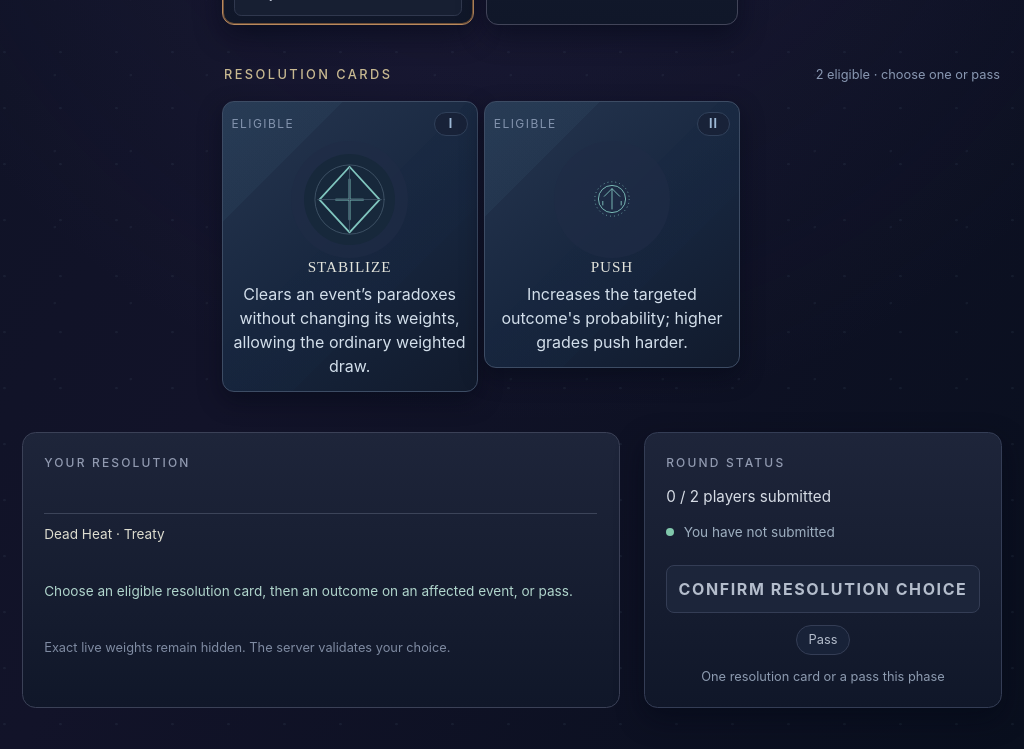
Test: waits for game state before showing a choice accepted without its projection
(page scrolled)
Click the button "Pass" at [823, 640], box [796,624,850,655]
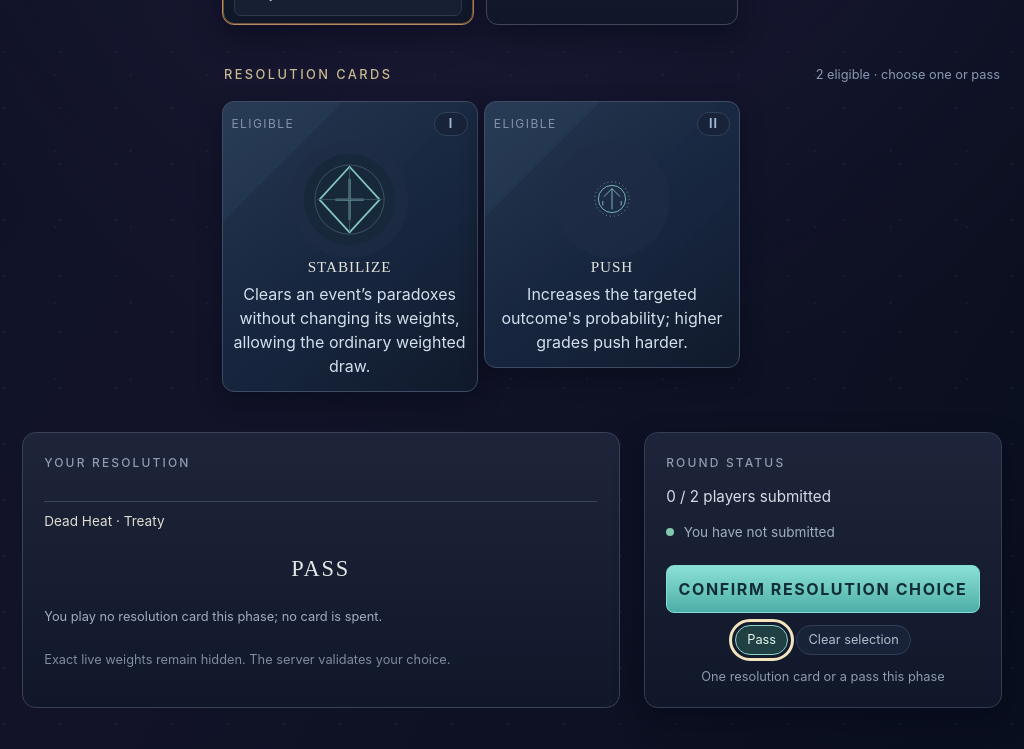
Click the button "Confirm resolution choice" at [823, 589], box [666,565,980,613]
(page scrolled)
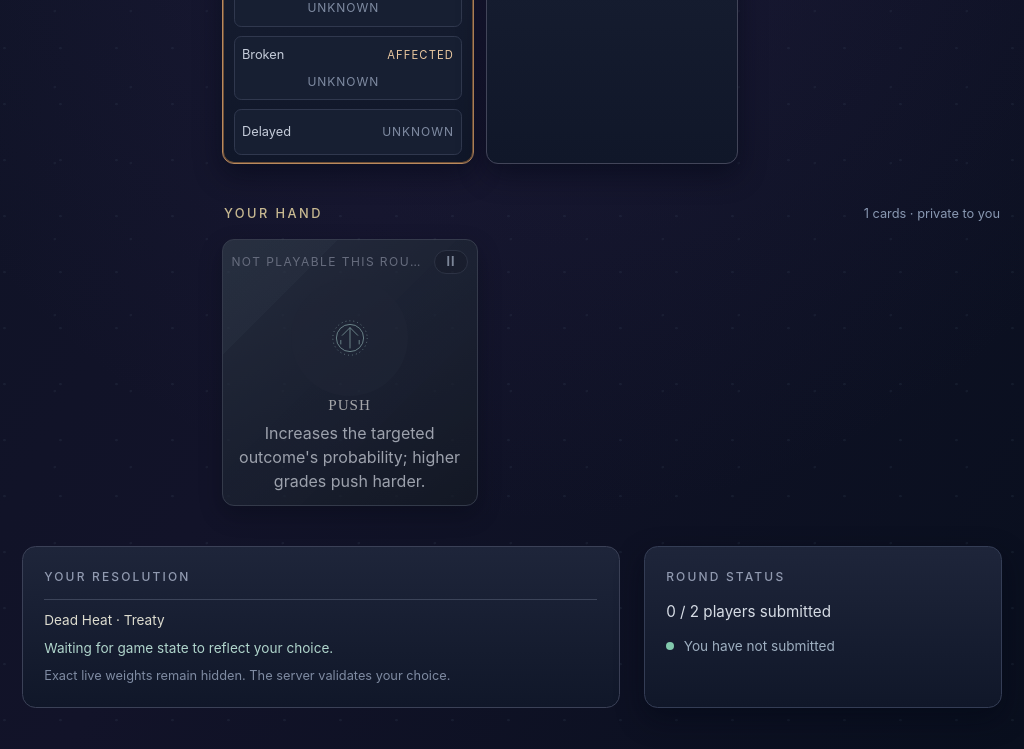
Expected: the text "Waiting for game state to reflect your choice." is shown, [44,640,333,656]
Expected: the button "Confirm resolution choice" is gone
